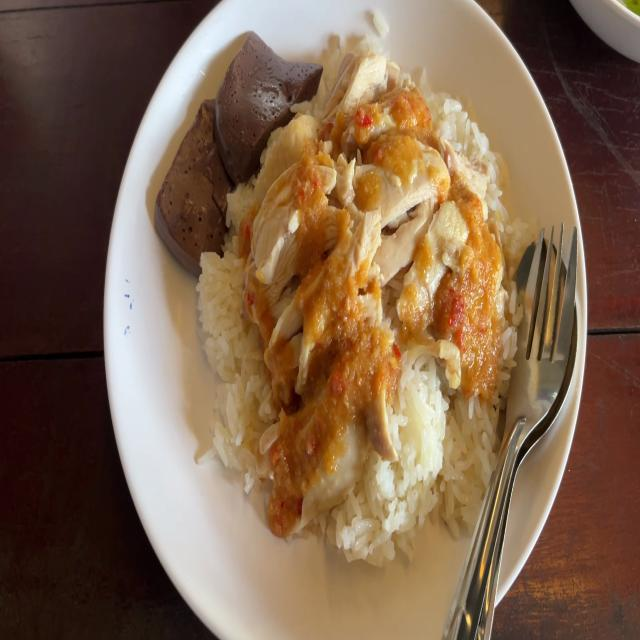chicken_rice: (264, 81, 470, 417)
noodle: (148, 101, 234, 267), (217, 31, 313, 148)
